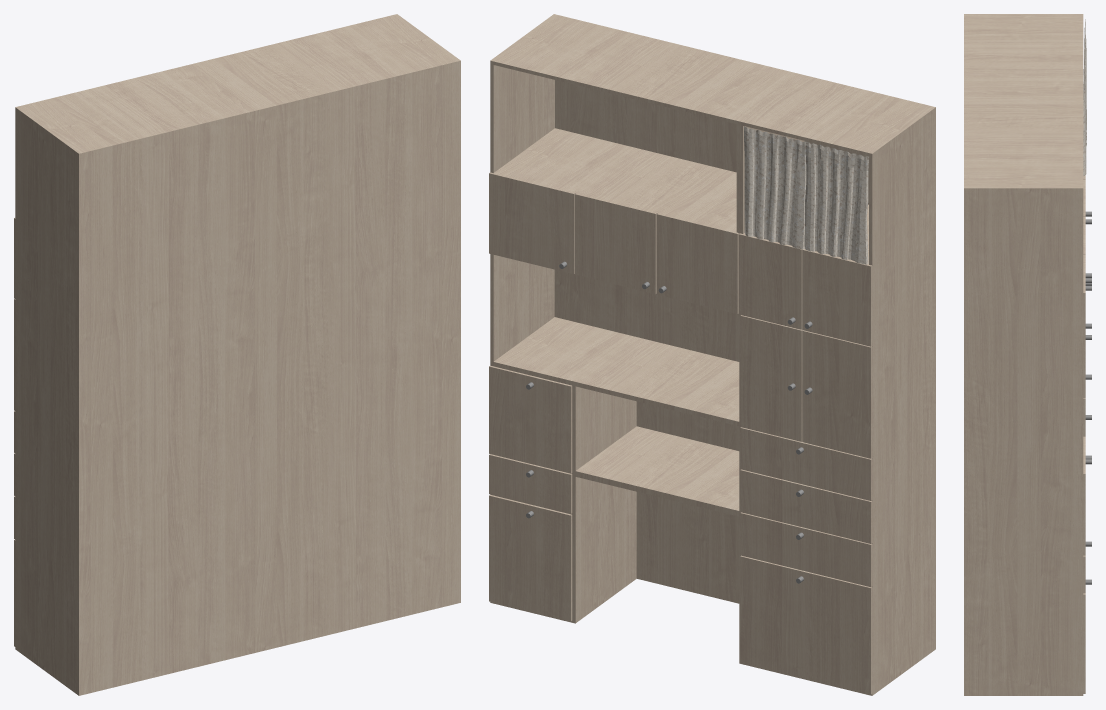
The model's file is cupboard fix.fbx.
3 views of the same model, side by side, from view 1: azimuth 30°, elevation 25°; view 2: azimuth 150°, elevation 25°; view 3: azimuth 270°, elevation 25° (orthographic). The views are drawn at different scales.
Parts seen in each view (by area): view 1: Object606071; view 2: Object606071, Curtain1; view 3: Object606071, Curtain1.
Part boxes in pixels (left/top/right/bottom): Object606071: left=14, top=14, right=460, bottom=695; Object606071: left=489, top=14, right=935, bottom=695; Curtain1: left=744, top=126, right=868, bottom=264; Object606071: left=964, top=14, right=1091, bottom=695; Curtain1: left=1083, top=19, right=1086, bottom=175.
Size of the model in its own units: 1770 by 2400 by 548.
Materials: 3 (2 with a texture image).
